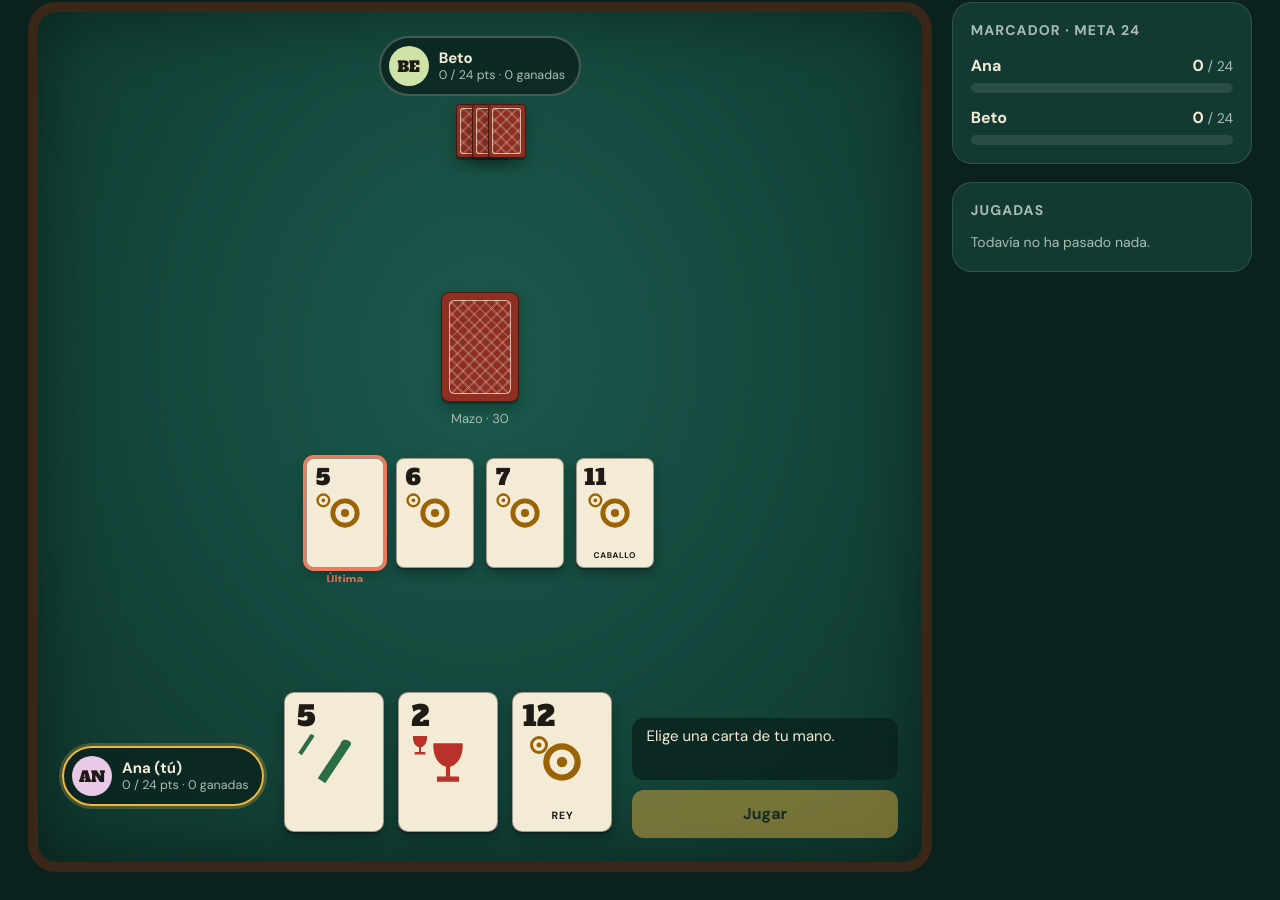
Test case: GamePage · jugar › detecta una caída sobre la última carta lanzada
The width and height of the screenshot is (1280, 900).
(page scrolled)
Click the button named "5 de bastos" at (334, 765), box [284,692,384,838]
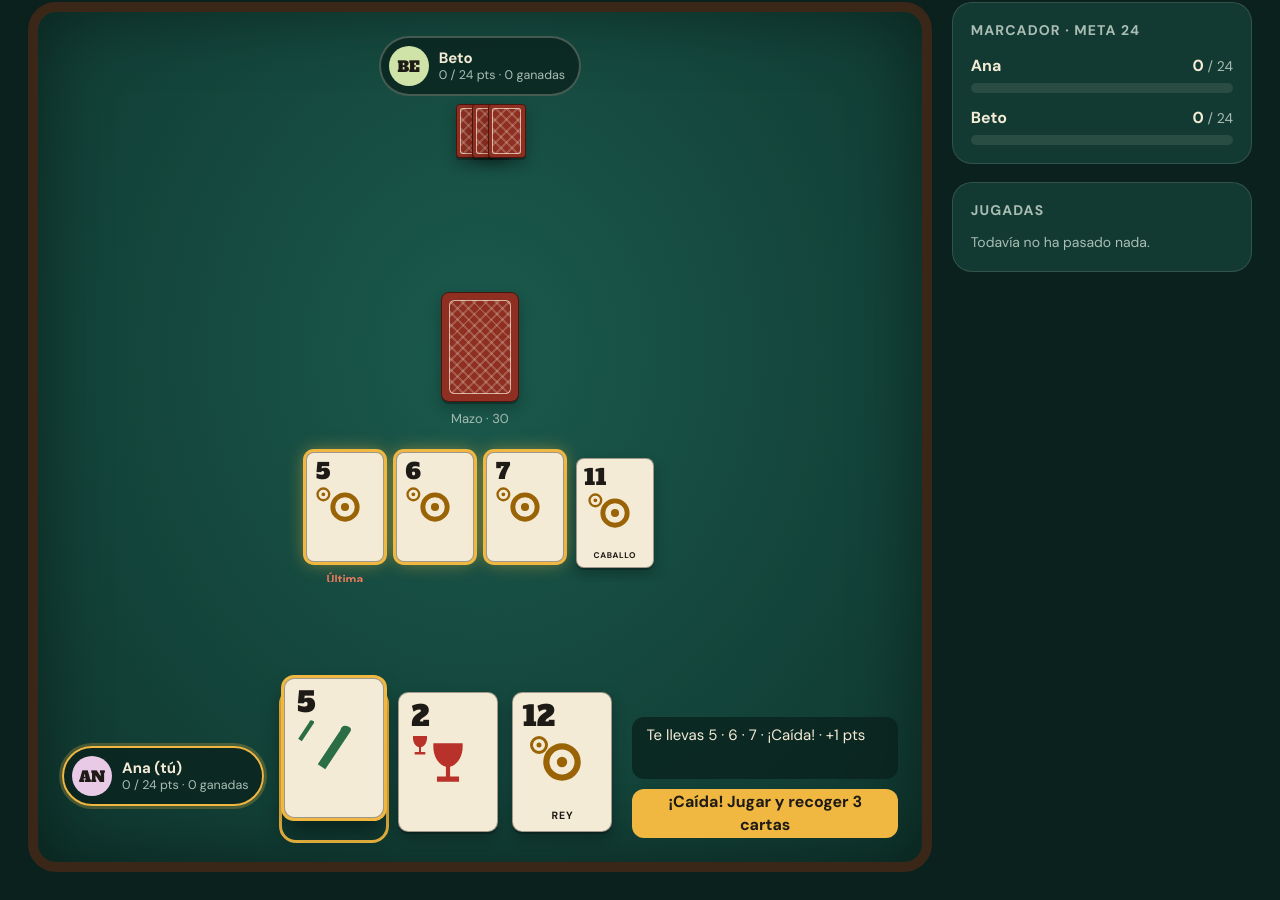
Now the text "Te llevas 5 · 6 · 7 · ¡Caída! · +1 pts" is shown, box [632,717,898,779]
Now the button "¡Caída! Jugar y recoger 3 cartas" is enabled, box [632,789,898,838]
